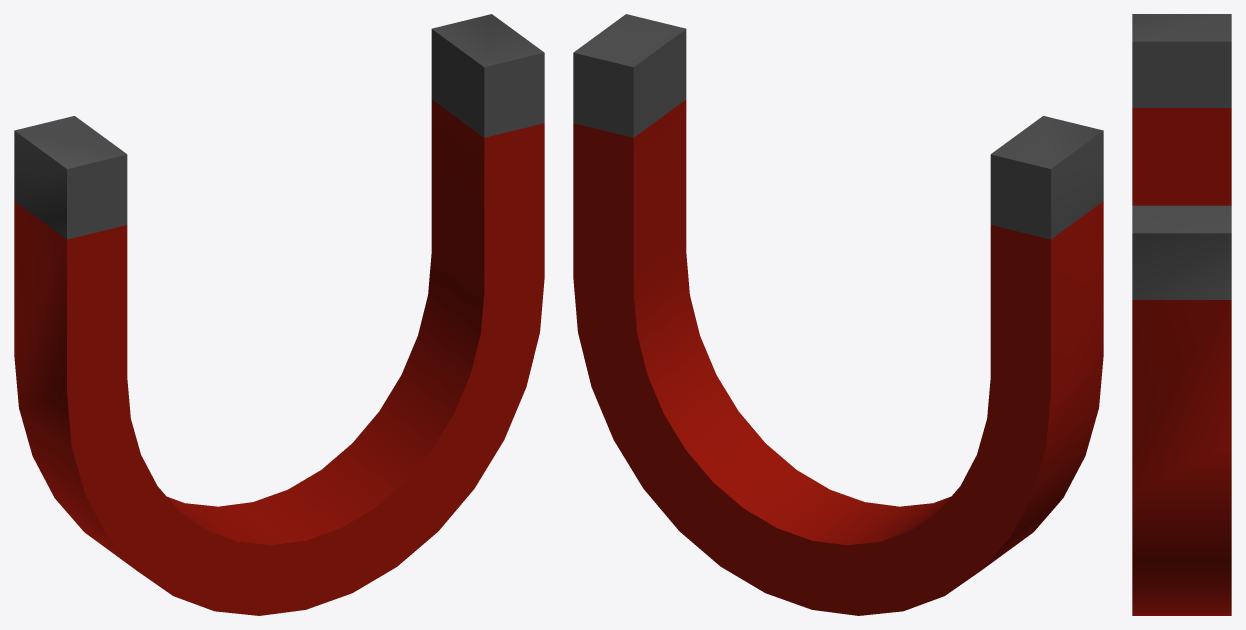
Rendered from p-up coin.fbx.
3 renders of one model, left to right at view 1: azimuth 30°, elevation 25°; view 2: azimuth 150°, elevation 25°; view 3: azimuth 270°, elevation 25°, orthographic. The views are drawn at different scales.
Visible parts, largest first — view 1: Coin; view 2: Coin; view 3: Coin.
Boxes of the visible parts, left/top/right/bottom form: Coin: left=14, top=14, right=544, bottom=615; Coin: left=573, top=14, right=1103, bottom=615; Coin: left=1132, top=14, right=1231, bottom=615.
Size of the model in its own units: 75.35 by 75.24 by 14.43.
